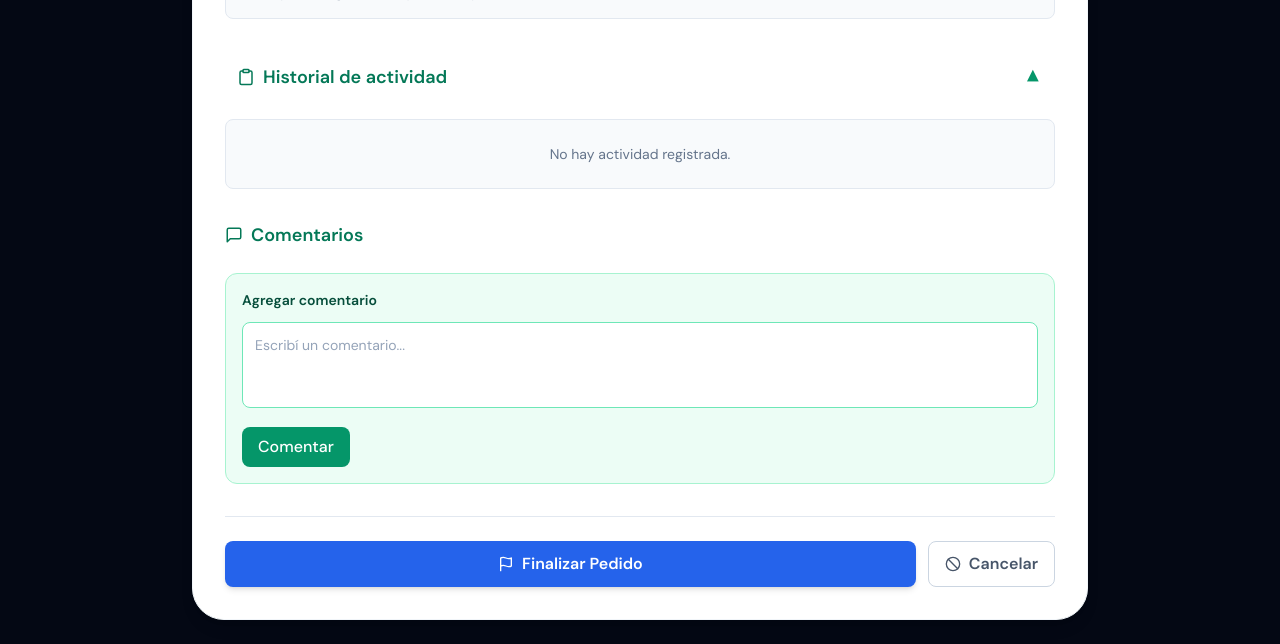
Test case: PedidoDetalle — finalización con consumos[] › muestra el error de negocio del backend y deja el form abierto
(page scrolled)
Click the button "Finalizar Pedido": (570, 564) [225, 541, 916, 587]
(page scrolled)
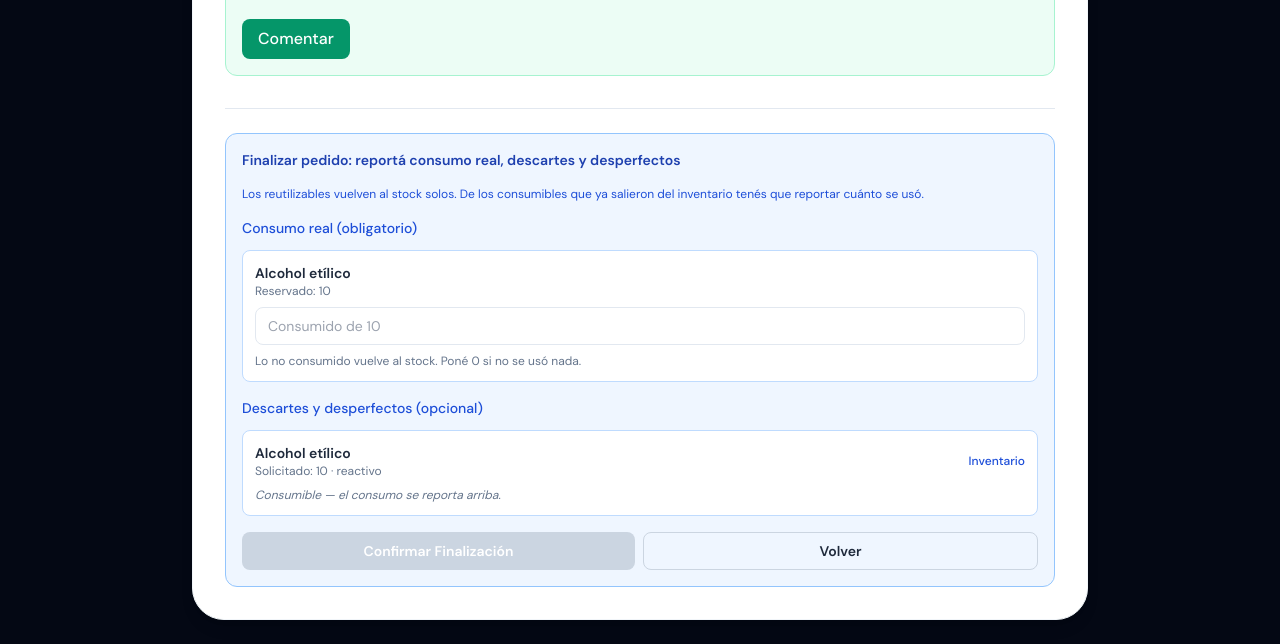
In the number field named "Cantidad consumida de Alcohol etílico": (640, 326) [255, 307, 1025, 345], type "4"
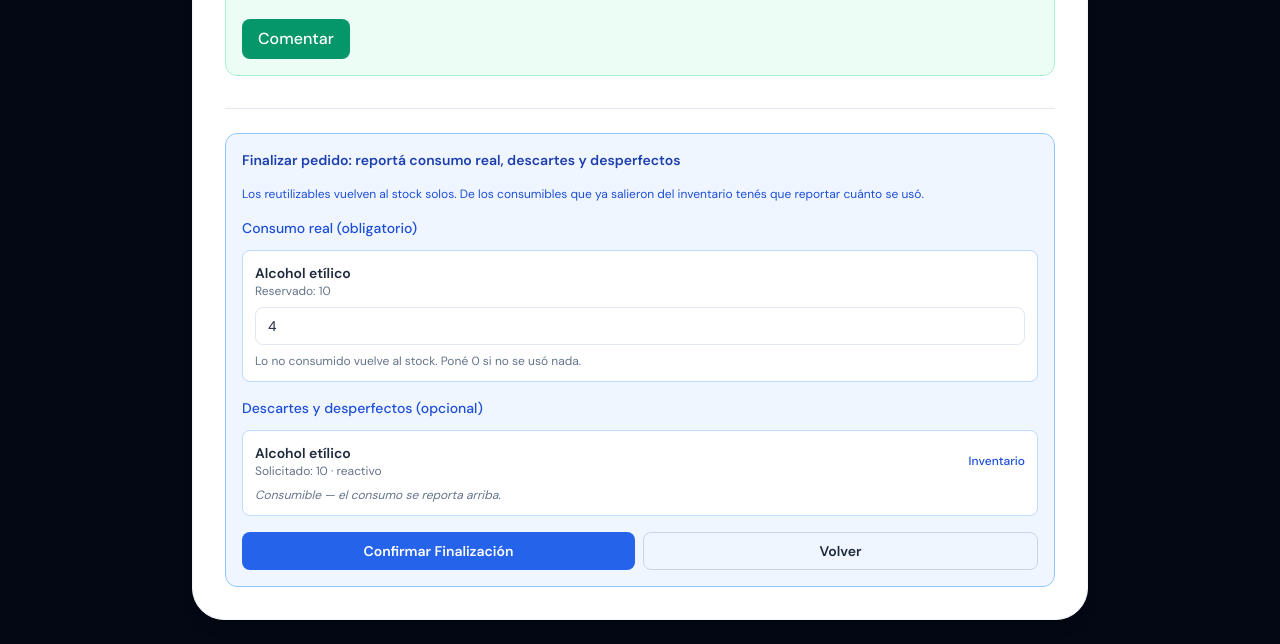
Click the button "Confirmar Finalización": (438, 551) [242, 532, 635, 570]
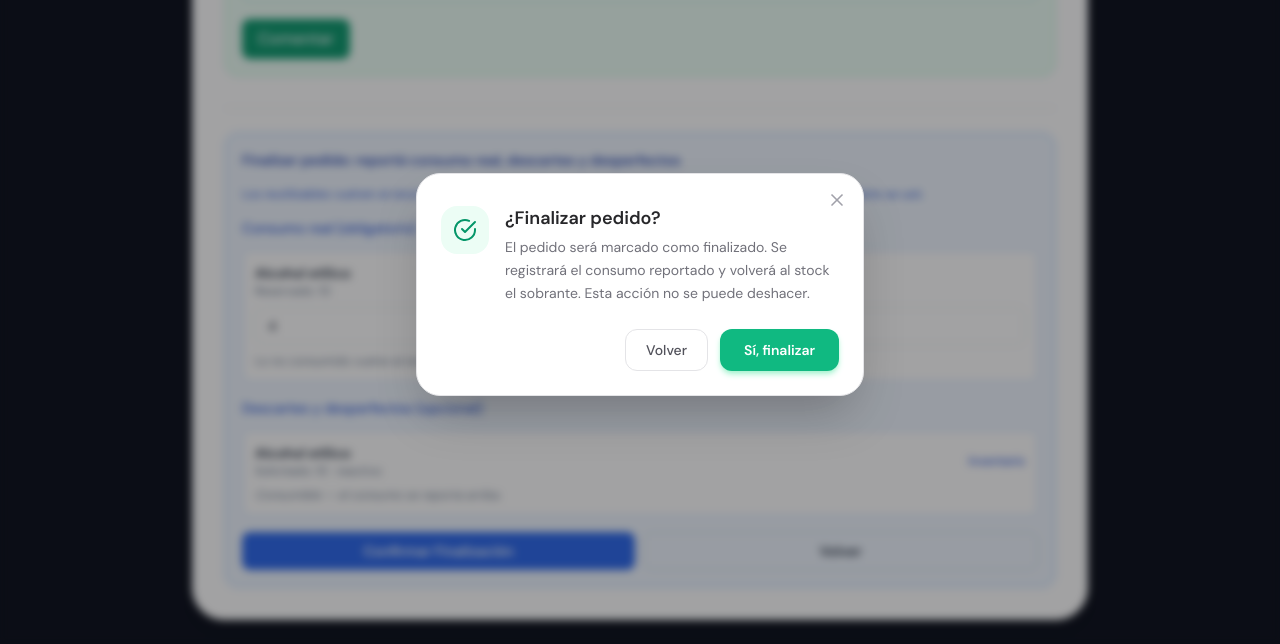
Click the button "Sí, finalizar": (780, 350) [720, 328, 839, 370]
(page scrolled)
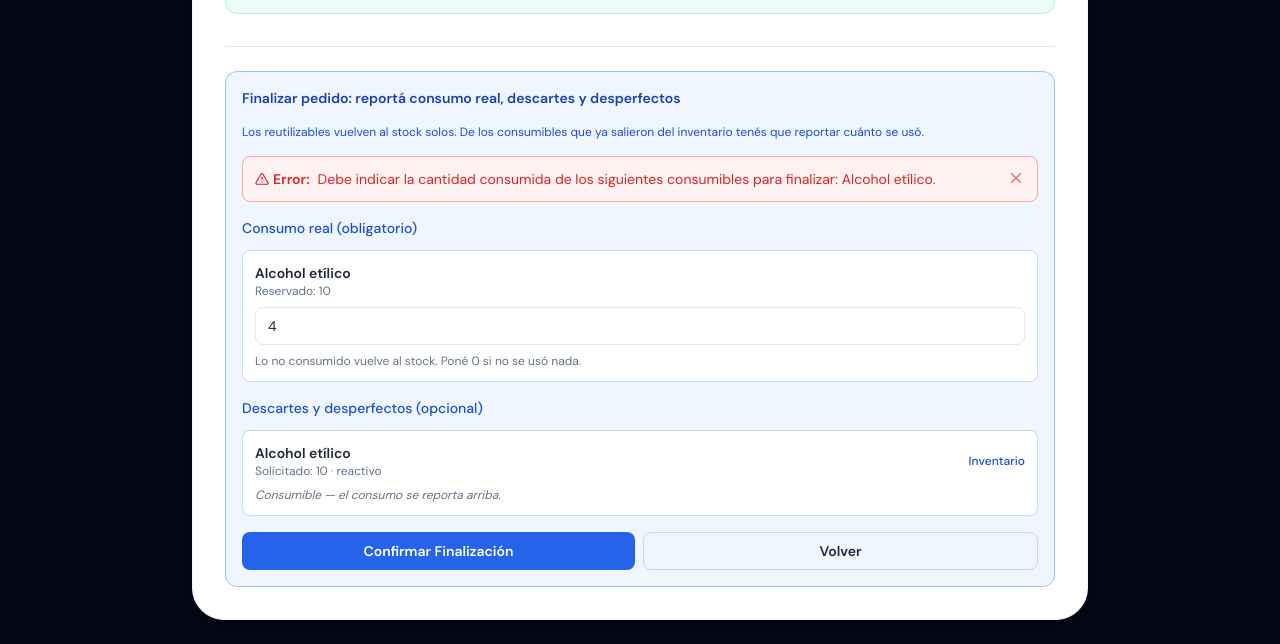
Expected: the text "Debe indicar la cantidad consumida" is shown, [318, 170, 936, 188]
